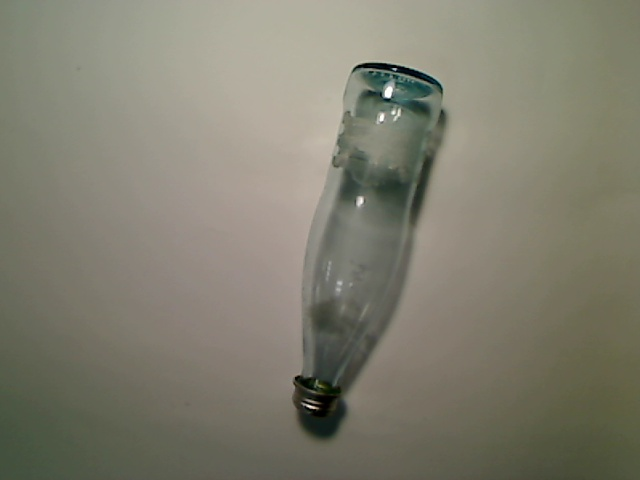bottle: (291, 62, 444, 419)
